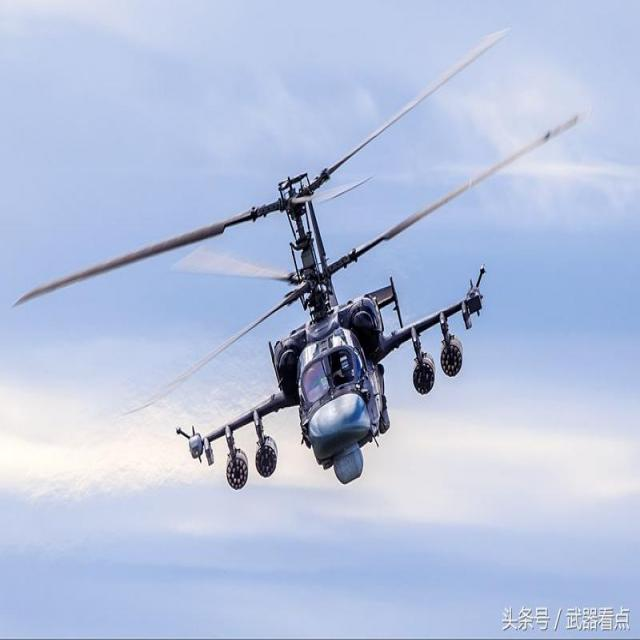MIL_HELO: (21, 30, 589, 501)
